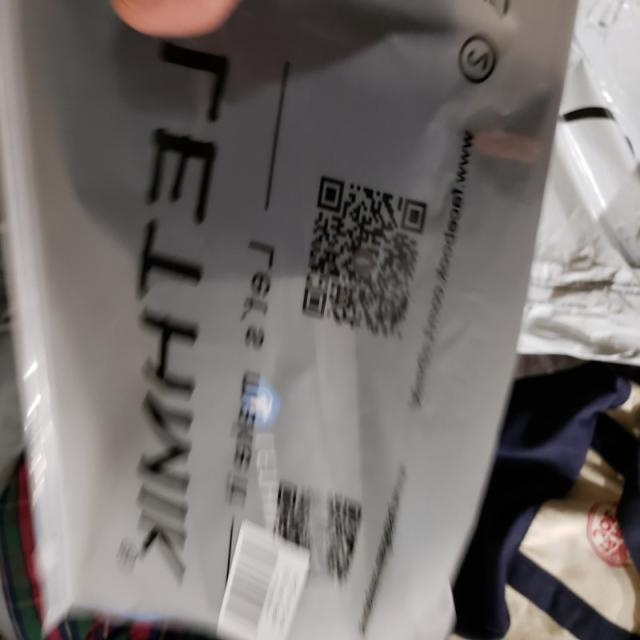qr-code: (288, 160, 438, 360), (264, 465, 370, 606)
